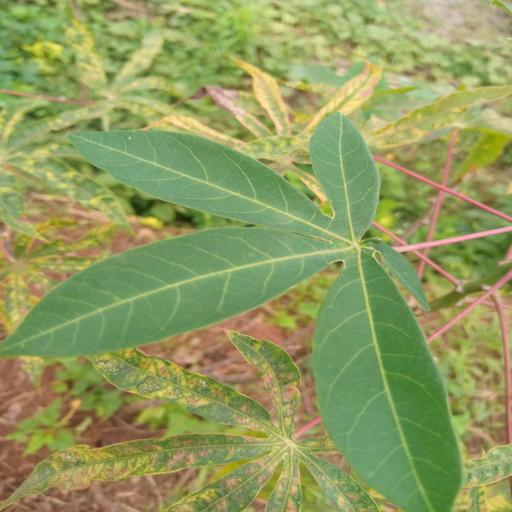Cassava_Healthy: (0, 109, 472, 512)
